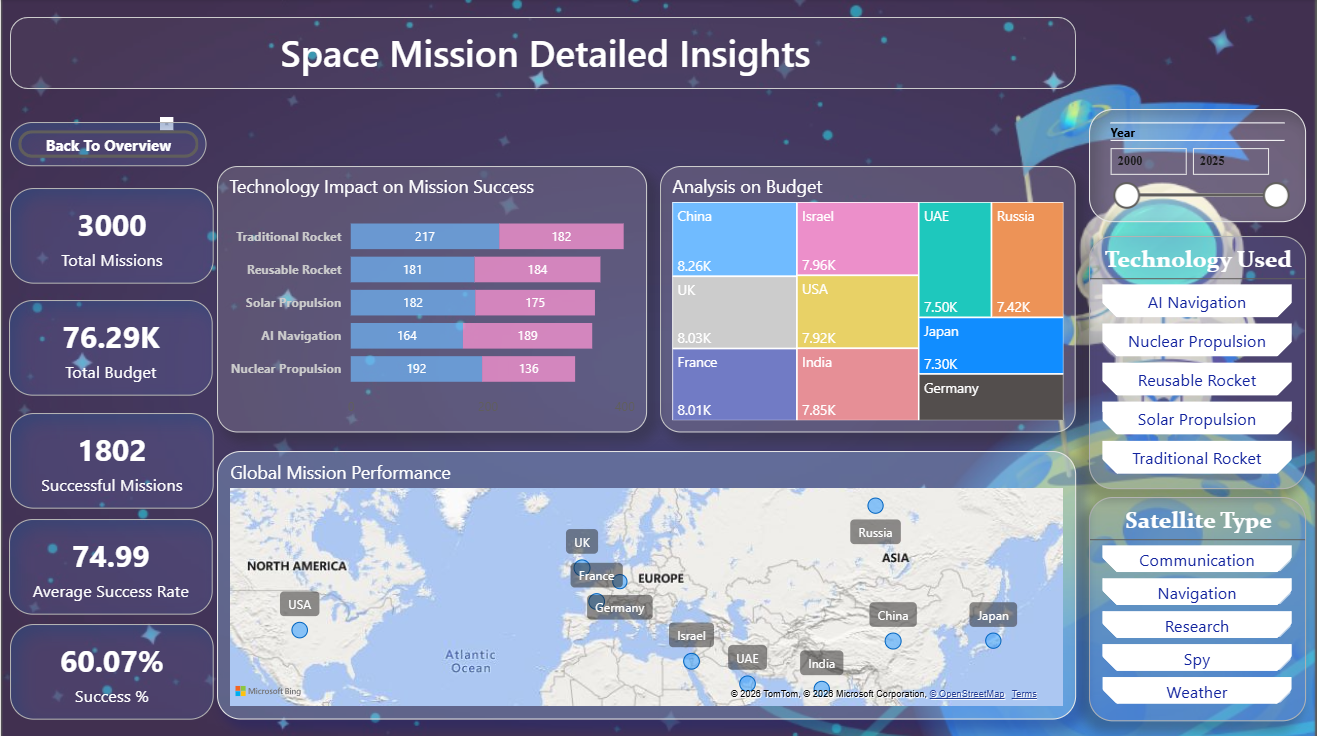

The dashboard page shown, as its layout file describes it:
{"tool":"powerbi","page":{"name":"Duplicate of Page 1","canvas":[1280,720],"ordinal":1},"visuals":[{"type":"card","fields":{"Values":["Global_Space_Exploration_Dataset.Total Missions"]},"box":[4.9,594.3,192.6,98.2],"z":0},{"type":"card","fields":{"Values":["Global_Space_Exploration_Dataset.Total Budget"]},"box":[5.8,250,192.6,98.2],"z":1000},{"type":"card","fields":{"Values":["Avg(Global_Space_Exploration_Dataset.Success Rate (%))"]},"box":[4.9,476.6,192.6,87.5],"z":2000},{"type":"card","fields":{"Values":["Global_Space_Exploration_Dataset.Successful Missions Count"]},"box":[4.9,359.9,193.6,98.2],"z":3000},{"type":"listSlicer","fields":{"Values":["Global_Space_Exploration_Dataset.Technology Used"]},"box":[1057.3,230.5,211.1,225.7],"z":6000},{"type":"listSlicer","fields":{"Values":["Global_Space_Exploration_Dataset.Satellite Type"]},"box":[1057.3,476.6,211.1,224.7],"z":7000},{"type":"textbox","box":[154.7,114.8,12.6,12.6],"z":13000},{"type":"actionButton","title":"De","box":[10.7,31.1,186.7,58.4],"z":15000},{"type":"map","title":"Global Mission Performance","fields":{"Category":["Global_Space_Exploration_Dataset.Country"],"Size":["Global_Space_Exploration_Dataset.Total Missions"]},"box":[209.9,484,834.9,216.7],"z":16001},{"type":"treemap","fields":{"Group":["Global_Space_Exploration_Dataset.Country"],"Values":["Global_Space_Exploration_Dataset.Total Budget"]},"box":[548.2,230.3,496.6,227.4],"z":16002}]}

Visuals, with their boxes in screenshot pixels (x1, y1, x2, y2), scaled from the page's 1280x720 canvas onto the 1317x736 screenshot:
card - Global_Space_Exploration_Dataset.Total Missions: select_region(5, 608, 203, 708)
card - Global_Space_Exploration_Dataset.Total Budget: select_region(6, 256, 204, 356)
card - Avg(Global_Space_Exploration_Dataset.Success Rate (%)): select_region(5, 487, 203, 577)
card - Global_Space_Exploration_Dataset.Successful Missions Count: select_region(5, 368, 204, 468)
listSlicer - Global_Space_Exploration_Dataset.Technology Used: select_region(1088, 236, 1305, 466)
listSlicer - Global_Space_Exploration_Dataset.Satellite Type: select_region(1088, 487, 1305, 717)
textbox: select_region(159, 117, 172, 130)
"De" actionButton: select_region(11, 32, 203, 91)
"Global Mission Performance" map: select_region(216, 495, 1075, 716)
treemap - Global_Space_Exploration_Dataset.Country x Global_Space_Exploration_Dataset.Total Budget: select_region(564, 235, 1075, 468)
